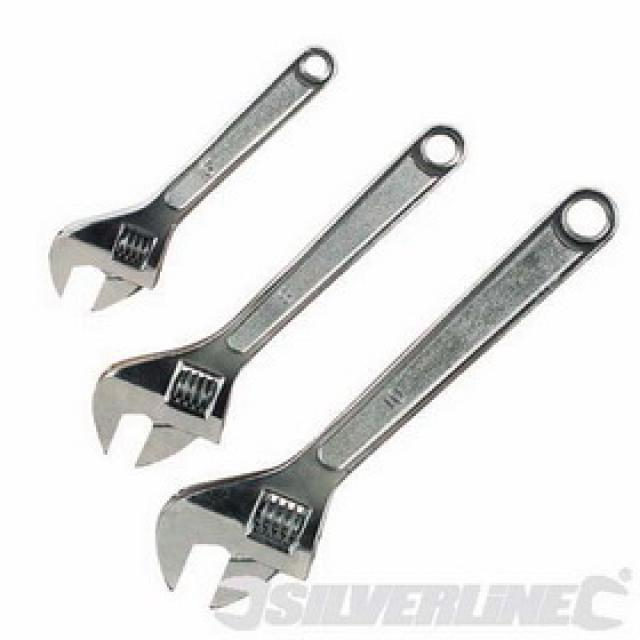wrench: (147, 180, 626, 621), (86, 117, 470, 474), (40, 38, 337, 318)
